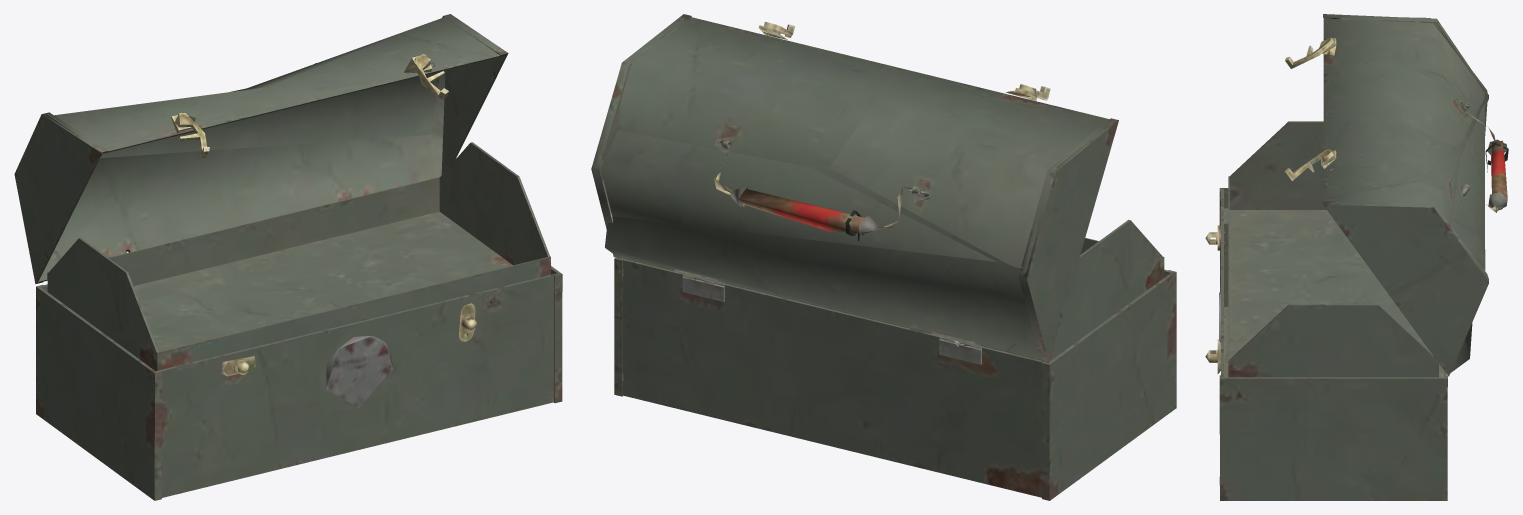
File: g_toolbox.glb
3 renders of one model, left to right at view 1: azimuth 30°, elevation 25°; view 2: azimuth 150°, elevation 25°; view 3: azimuth 270°, elevation 25°, orthographic. The views are drawn at different scales.
Visible parts, largest first — view 1: metal_toolbox; view 2: metal_toolbox; view 3: metal_toolbox.
Part boxes in pixels (box(x1,y1,x2,y2)): metal_toolbox: box(14, 14, 562, 500); metal_toolbox: box(591, 14, 1176, 500); metal_toolbox: box(1205, 14, 1508, 500).
Size of the model in its own units: 0.4 by 0.3047 by 0.2688.
Materials: 1 (1 with a texture image).
